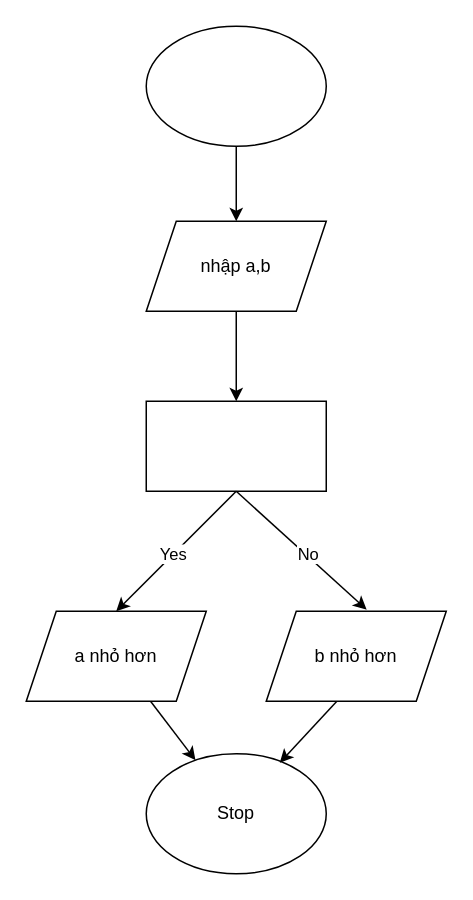
Some shapes in this 473 by 900 pixel diagram are drawn without their labels. Each missing label, with the centre of its shape:
a < b ?: (235,445)
Start: (235,85)
